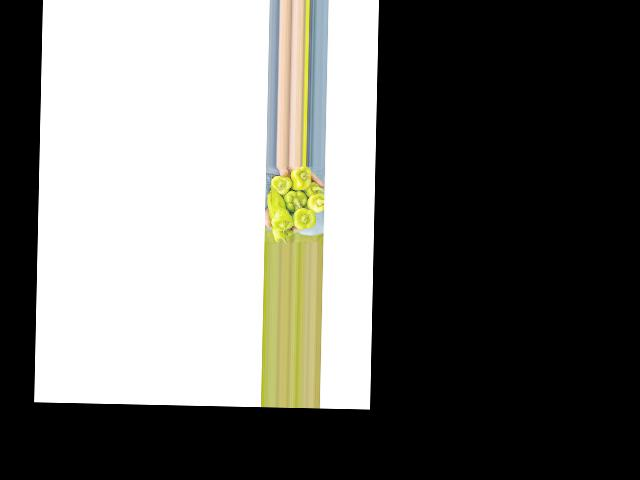bell_pepper: (291, 166, 314, 192)
